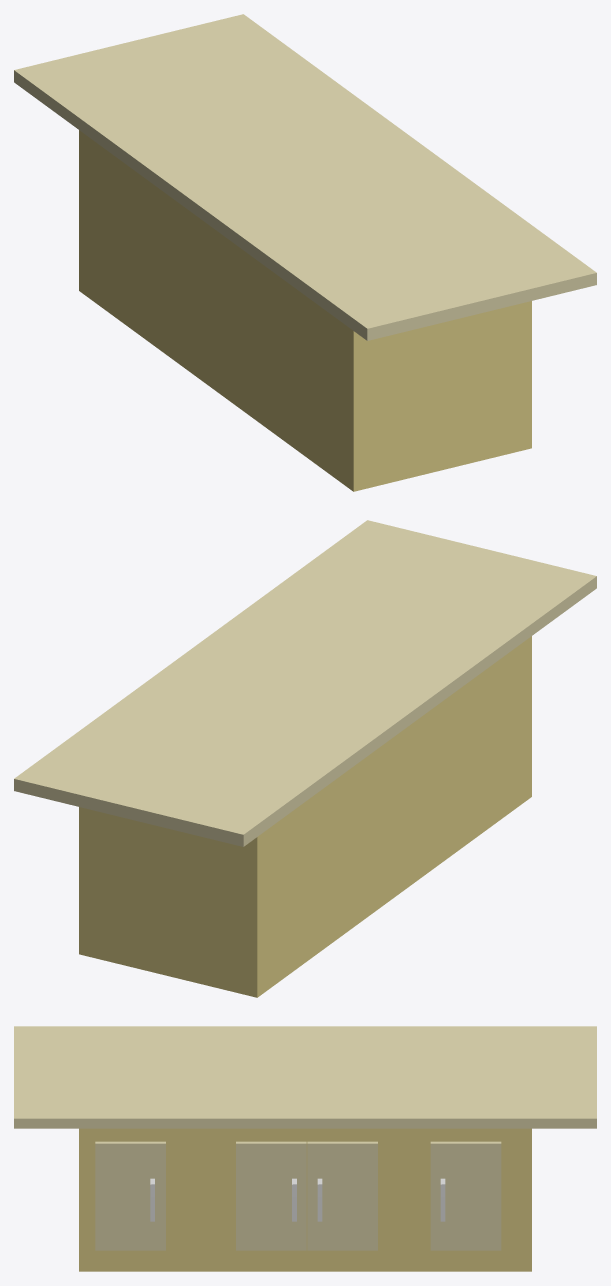
The model's file is CounterTop.fbx.
The picture shows the model from 3 angles, top to bottom: view 1: azimuth 30°, elevation 25°; view 2: azimuth 150°, elevation 25°; view 3: azimuth 270°, elevation 25°; orthographic projection. The views are drawn at different scales.
Parts seen in each view (by area): view 1: Counter; view 2: Counter; view 3: Counter.
Part boxes in pixels (x1,y1,x2,y2): Counter: (14, 14, 596, 491); Counter: (14, 520, 596, 997); Counter: (14, 1026, 596, 1271).
Size of the model in its own units: 110 by 90.51 by 293.
